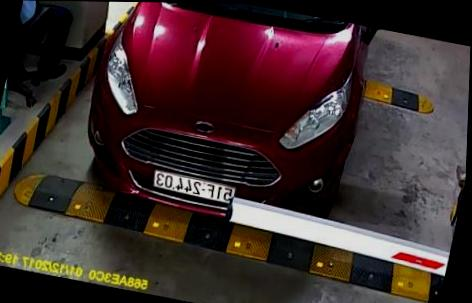License_Plate: (147, 169, 238, 222)
